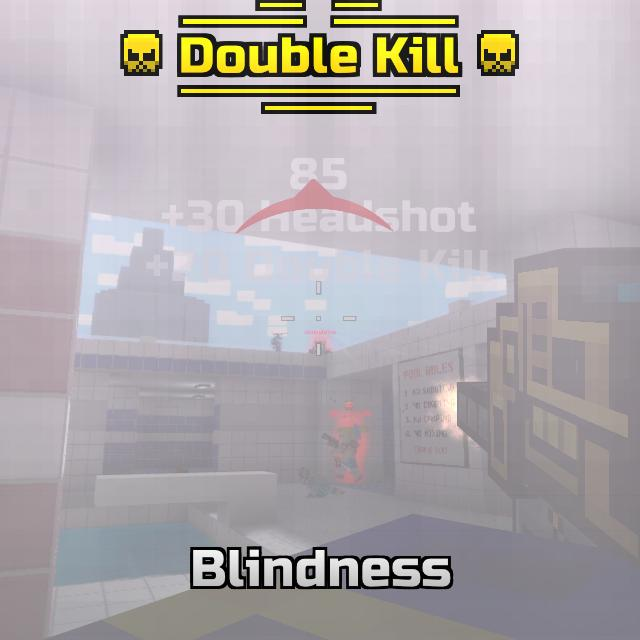Enemy: (330, 427, 363, 482), (309, 339, 332, 354)
